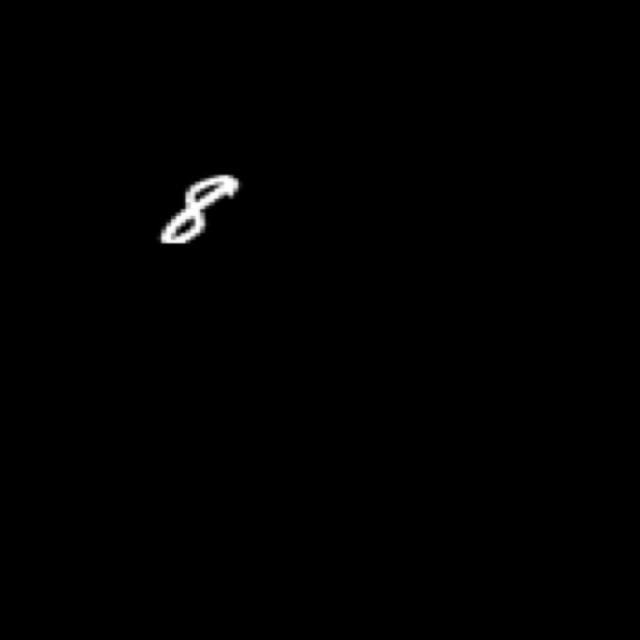eight -8-: (148, 170, 250, 250)
